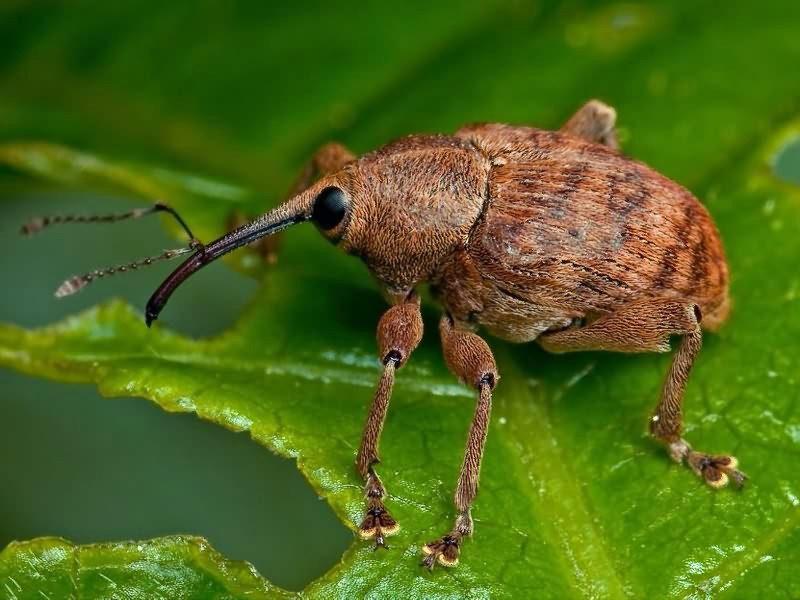dolgonosik: (37, 109, 761, 568)
